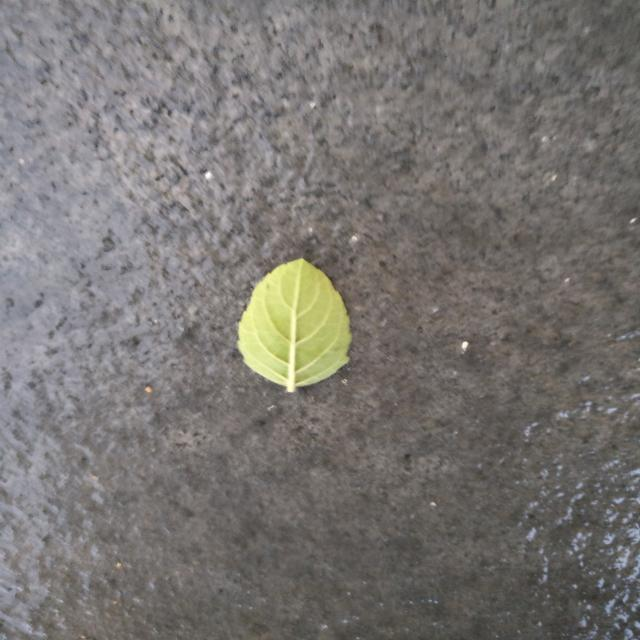tulsi: (238, 259, 352, 392)
